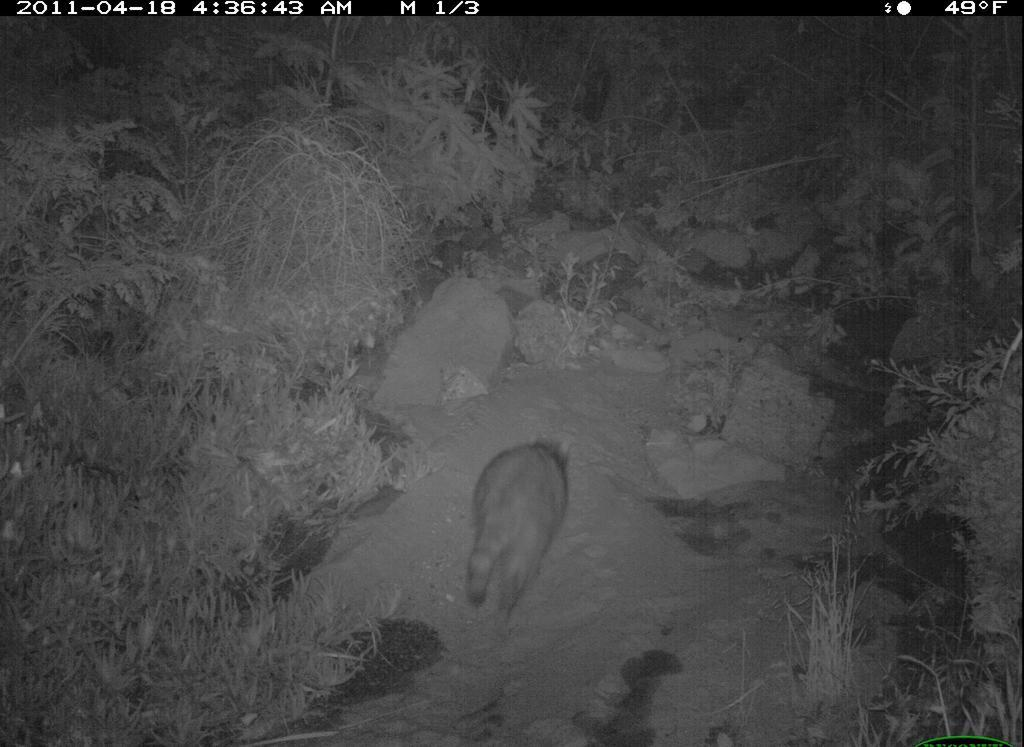raccoon: (452, 423, 579, 637)
